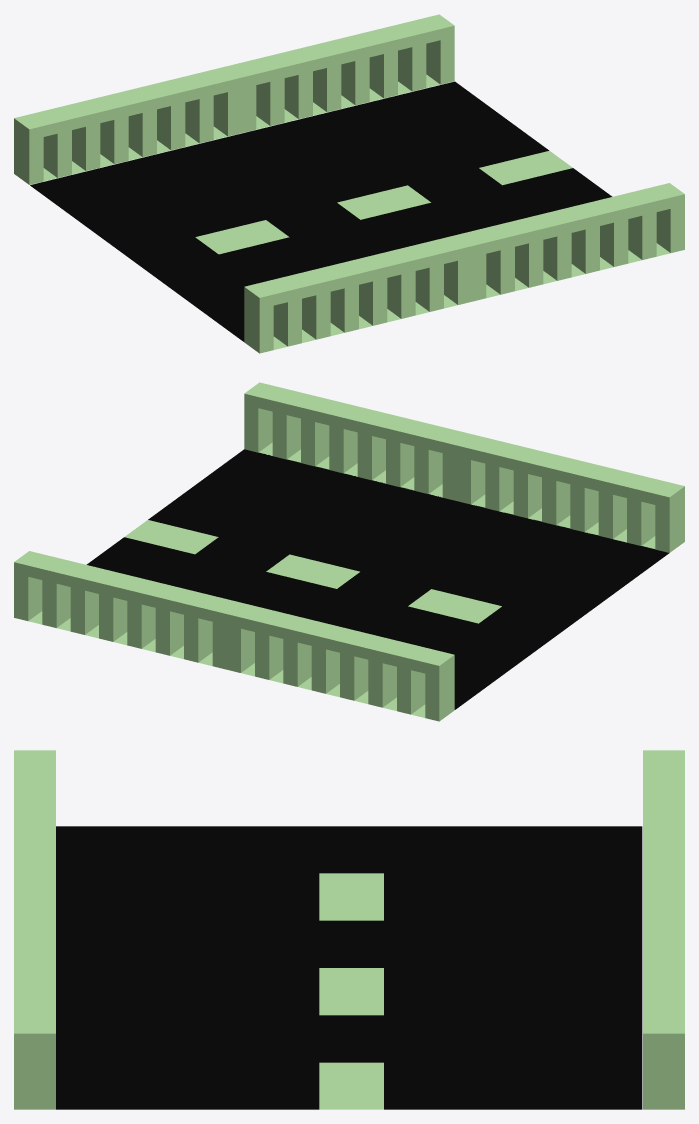
File: Sci-fi_raceTrackStraightRight_Beta1.fbx
3 views of the same model, one above another, from view 1: azimuth 30°, elevation 25°; view 2: azimuth 150°, elevation 25°; view 3: azimuth 270°, elevation 25° (orthographic). The views are drawn at different scales.
Parts seen in each view (by area): view 1: Plane, LeftWall, RightWall; view 2: Plane, LeftWall, RightWall; view 3: Plane, LeftWall, RightWall.
Part boxes in pixels (<box>): Plane: <box>30,81,612,341</box>; LeftWall: <box>14,14,454,184</box>; RightWall: <box>244,183,684,353</box>; Plane: <box>86,449,669,709</box>; LeftWall: <box>14,551,454,721</box>; RightWall: <box>244,382,684,552</box>; Plane: <box>56,826,642,1109</box>; LeftWall: <box>643,750,684,1109</box>; RightWall: <box>14,750,55,1109</box>.
Bounding box in the file's own units: 1000 × 125 × 1000.
